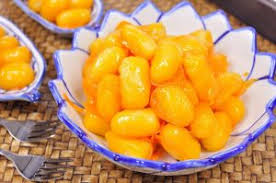tongyod: (184, 51, 225, 101), (153, 83, 196, 128), (158, 122, 203, 159), (119, 57, 151, 109), (109, 108, 163, 136), (102, 131, 155, 159), (96, 72, 124, 122)
